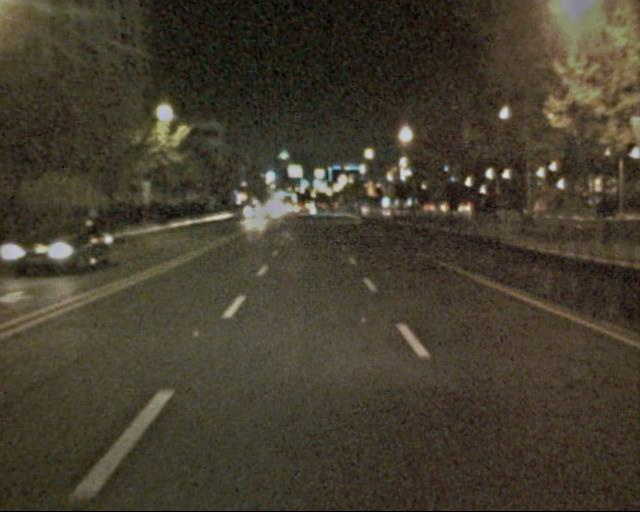person: (587, 183, 616, 258), (471, 191, 500, 228)
